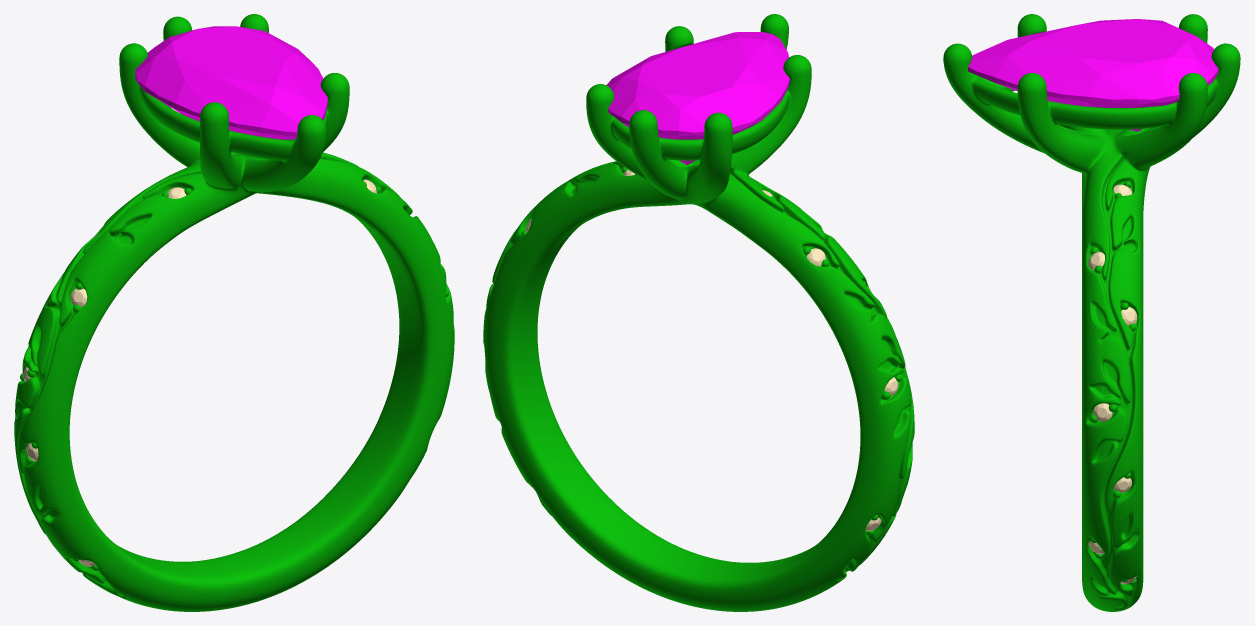
File: BE1D5896_PE_200ct_RENDER.glb
The picture shows the model from 3 angles, left to right: view 1: azimuth 30°, elevation 25°; view 2: azimuth 150°, elevation 25°; view 3: azimuth 270°, elevation 25°; orthographic projection. The views are drawn at different scales.
Parts seen in each view (by area): view 1: Metal 01, CS_Diamond_Pear; view 2: Metal 01, CS_Diamond_Pear; view 3: Metal 01, CS_Diamond_Pear.
Boxes of the visible parts, x1=… form: Metal 01: x1=14, y1=14, x2=454, y2=611; CS_Diamond_Pear: x1=135, y1=26, x2=327, y2=139; Metal 01: x1=483, y1=14, x2=914, y2=611; CS_Diamond_Pear: x1=606, y1=32, x2=790, y2=164; Metal 01: x1=943, y1=14, x2=1240, y2=611; CS_Diamond_Pear: x1=968, y1=19, x2=1218, y2=131.
Bounding box in the file's own units: 20.28 × 24.62 × 12.11.
